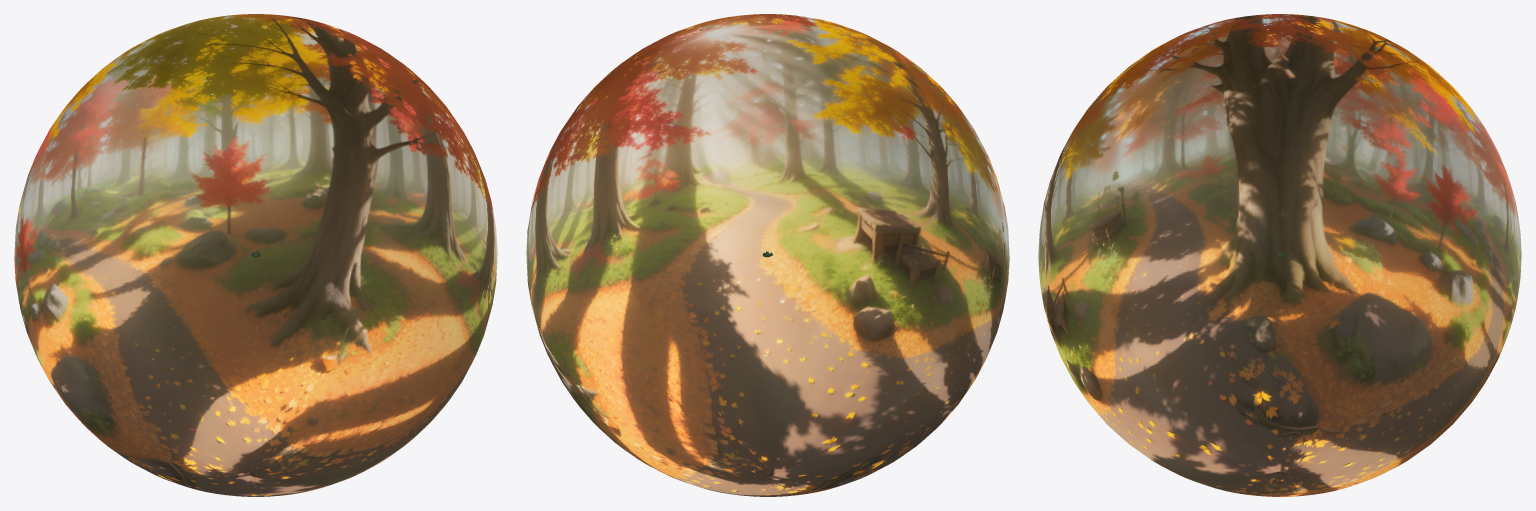
Rendered from mothers.glb.
The picture shows the model from 3 angles, left to right: view 1: azimuth 30°, elevation 25°; view 2: azimuth 150°, elevation 25°; view 3: azimuth 270°, elevation 25°; orthographic projection.
Visible parts, largest first — view 1: Fire; view 2: Fire; view 3: Fire.
Part boxes in pixels (box(x1,y1,x2,y2)): Fire: box(14, 14, 497, 496); Fire: box(526, 14, 1009, 496); Fire: box(1038, 14, 1521, 496).
Size of the model in its own units: 1000 by 1000 by 1000.
10 materials, 9 textured.
